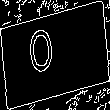O_S: (41, 26, 69, 84)
